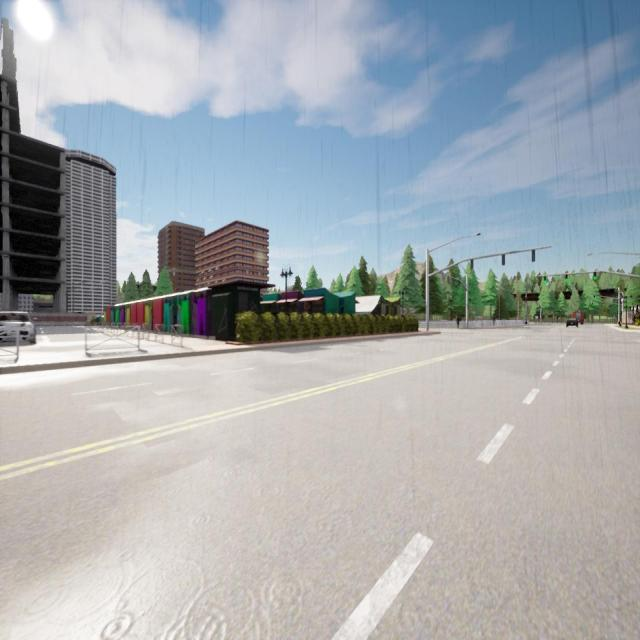Pedestrian: (457, 317, 459, 328)
Traffic_Signs: (535, 316, 538, 319)
Vehicle: (0, 312, 35, 344), (572, 311, 584, 324), (567, 318, 578, 326)
traffic_light: (532, 249, 535, 261), (502, 254, 505, 265), (565, 274, 568, 282), (471, 259, 473, 269), (594, 272, 596, 279), (544, 276, 546, 282), (452, 278, 454, 284), (448, 277, 449, 283), (458, 281, 460, 284), (584, 302, 586, 304), (603, 302, 604, 306), (592, 302, 593, 305), (594, 295, 595, 298)
